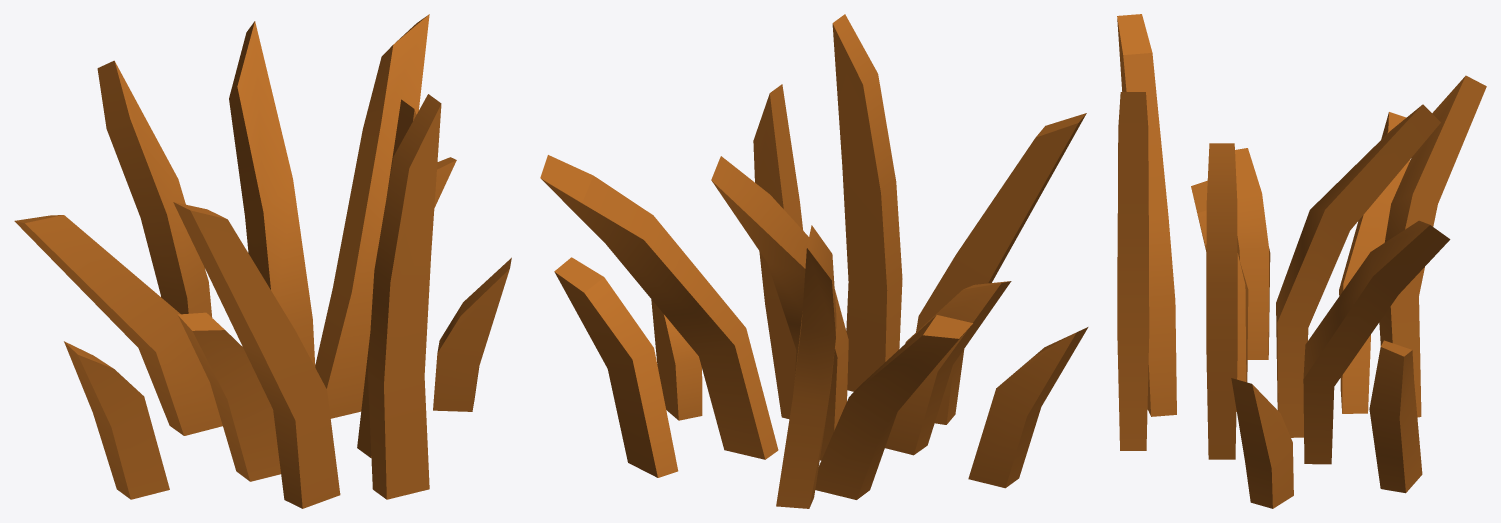
The model's file is grass_1.glb.
3 views of the same model, side by side, from view 1: azimuth 30°, elevation 25°; view 2: azimuth 150°, elevation 25°; view 3: azimuth 270°, elevation 25° (orthographic). The views are drawn at different scales.
Parts seen in each view (by area): view 1: Grass_1; view 2: Grass_1; view 3: Grass_1.
Part boxes in pixels (box(x1,y1,x2,y2)): Grass_1: box(14, 14, 511, 508); Grass_1: box(540, 14, 1088, 508); Grass_1: box(1117, 14, 1486, 508).
Bounding box in the file's own units: 1.27 × 0.9905 × 0.9104.
Materials: 1 (1 with a texture image).
